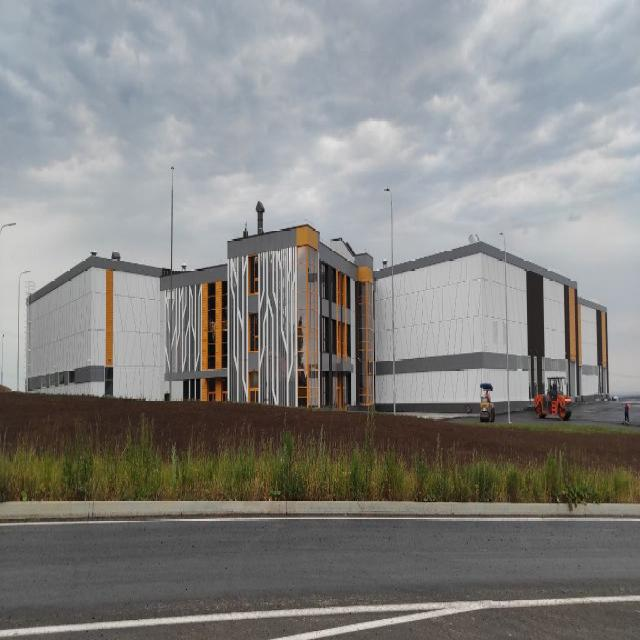Building: (25, 224, 610, 416)
